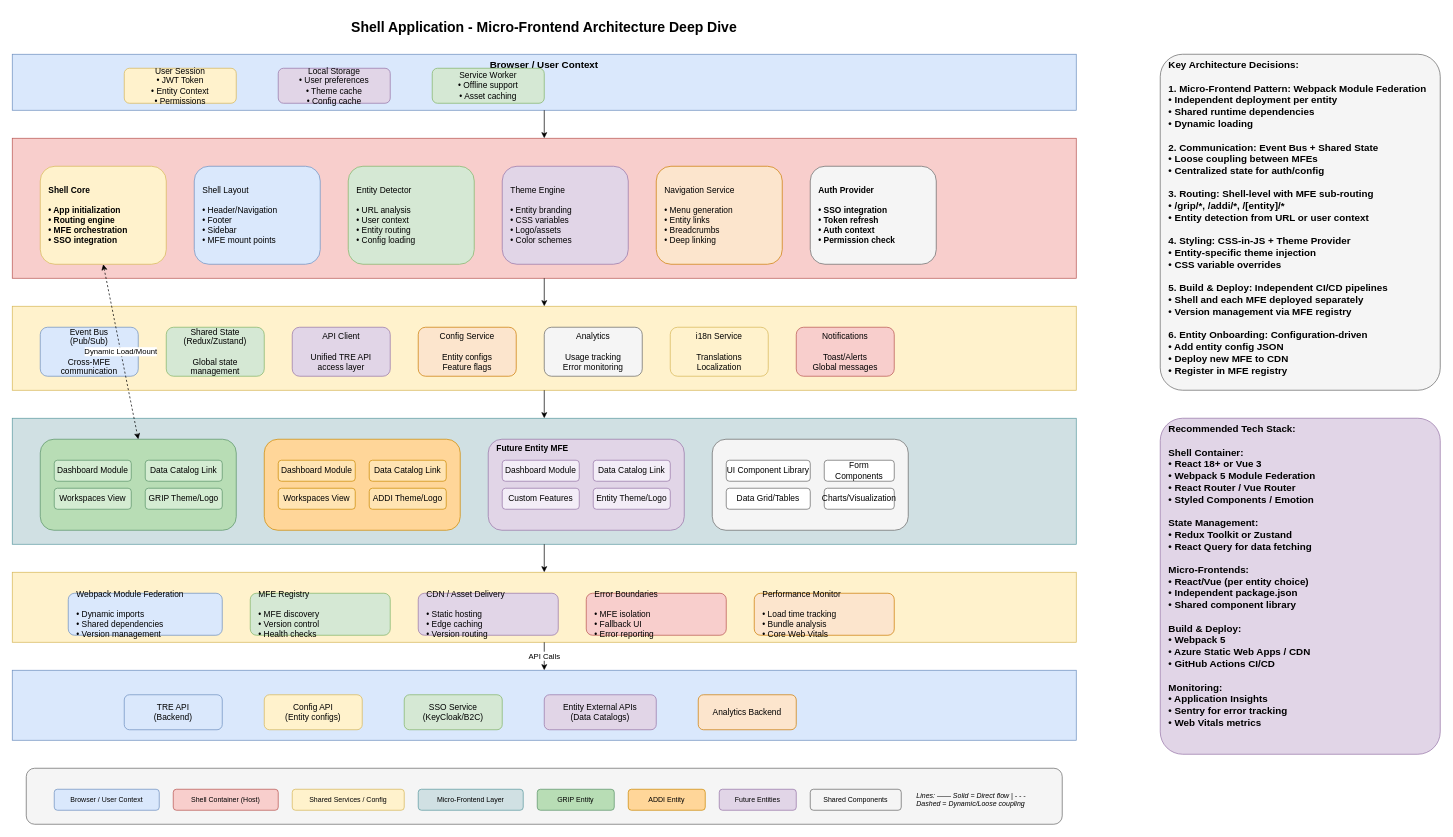
Some shapes in this 1453 by 837 pixel diagram are drawn without their labels. Each missing label, with the box of its shape:
ADDI MFE: (264, 439, 460, 530)
Backend Integration: (12, 670, 1076, 740)
Color Legend: (26, 768, 1062, 824)
GRIP MFE: (40, 439, 236, 530)
Micro-Frontend Applications (Entity-Specific): (12, 418, 1076, 544)
Module Federation / Integration: (12, 572, 1076, 642)
Shared Components MFE: (712, 439, 908, 530)
Shared Services & State Management: (12, 306, 1076, 390)
Shell Container Application (Host): (12, 138, 1076, 278)
